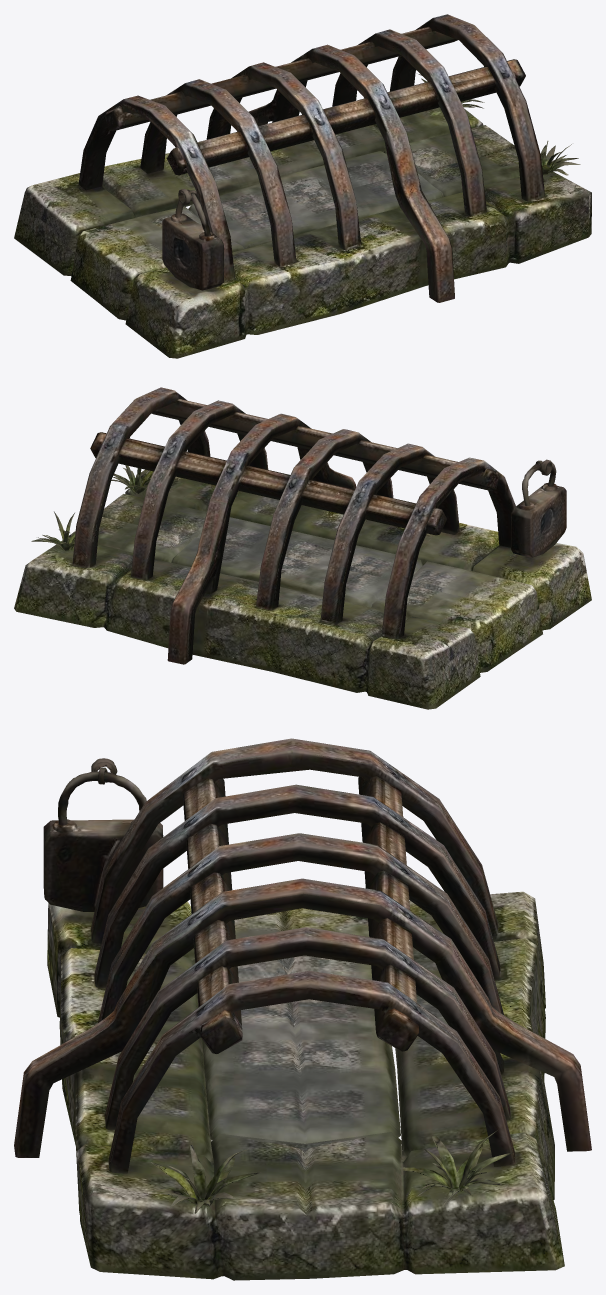
Rendered from act1-a02-2-mortsafe.glb.
The picture shows the model from 3 angles, top to bottom: view 1: azimuth 30°, elevation 25°; view 2: azimuth 150°, elevation 25°; view 3: azimuth 270°, elevation 25°; orthographic projection. The views are drawn at different scales.
Parts seen in each view (by area): view 1: act1-a02-2-mortsafe; view 2: act1-a02-2-mortsafe; view 3: act1-a02-2-mortsafe.
Boxes of the visible parts, x1=… form: act1-a02-2-mortsafe: x1=14, y1=14, x2=591, y2=358; act1-a02-2-mortsafe: x1=14, y1=387, x2=591, y2=709; act1-a02-2-mortsafe: x1=14, y1=738, x2=591, y2=1280.
Bounding box in the file's own units: 2.6 × 0.9658 × 1.89.
Materials: 1 (1 with a texture image).
